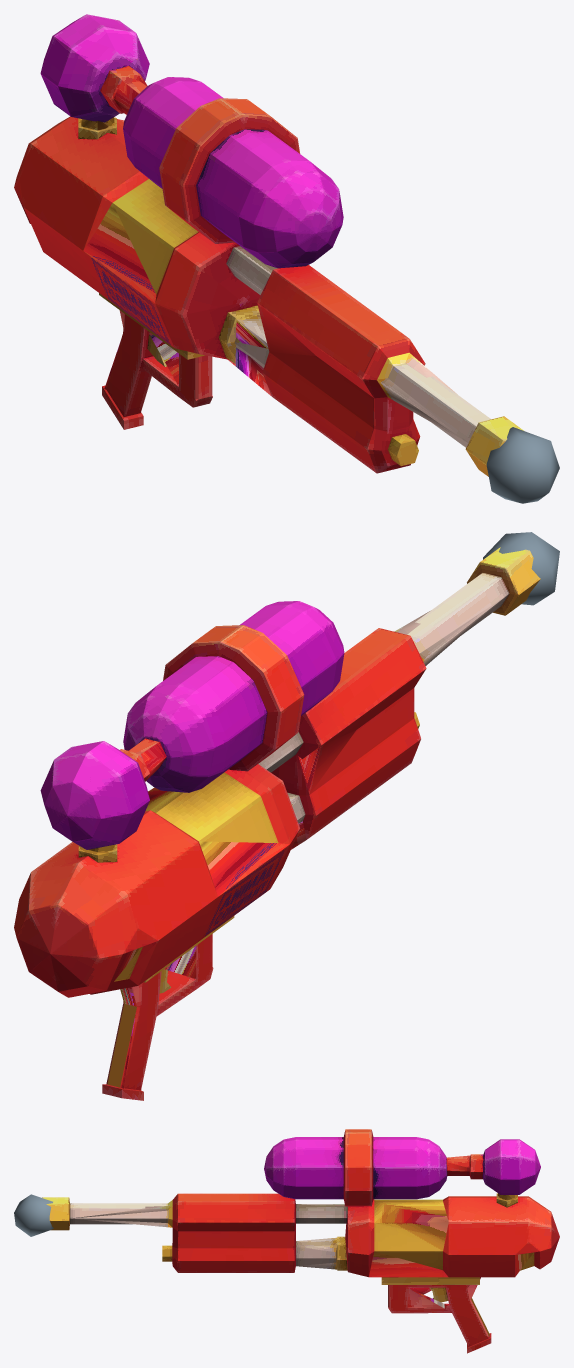
Rendered from item_water_supersoaker_red.glb.
The picture shows the model from 3 angles, top to bottom: view 1: azimuth 30°, elevation 25°; view 2: azimuth 150°, elevation 25°; view 3: azimuth 270°, elevation 25°; orthographic projection. The views are drawn at different scales.
Visible parts, largest first — view 1: pSphere2, WaterDrip; view 2: pSphere2, WaterDrip; view 3: pSphere2, WaterDrip.
Part boxes in pixels (x1,y1,x2,y2): pSphere2: (14,14,523,476); WaterDrip: (486,427,559,503); pSphere2: (14,547,540,1100); WaterDrip: (483,532,559,605); pSphere2: (42,1129,559,1353); WaterDrip: (14,1194,53,1236).
Size of the model in its own units: 0.1388 by 0.3879 by 0.8801.
2 materials, 1 textured.
